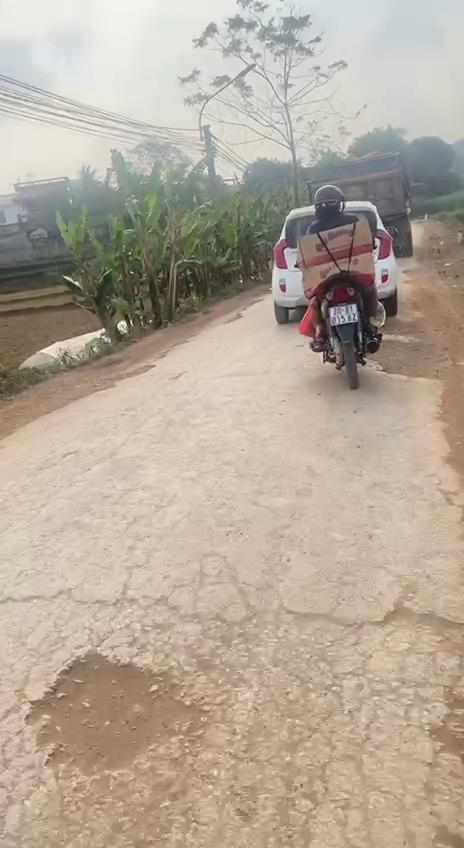pothole: (11, 639, 211, 792), (364, 326, 444, 388)
